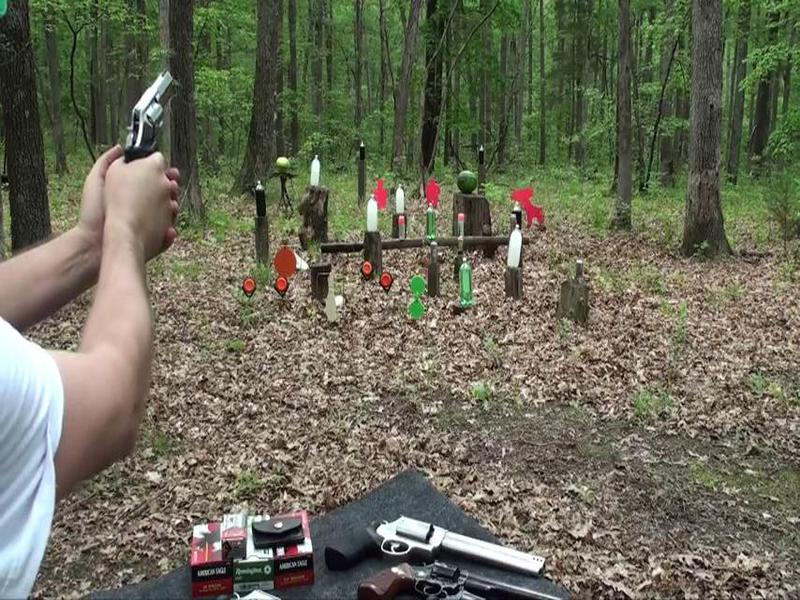Revolver: (111, 46, 194, 193)
